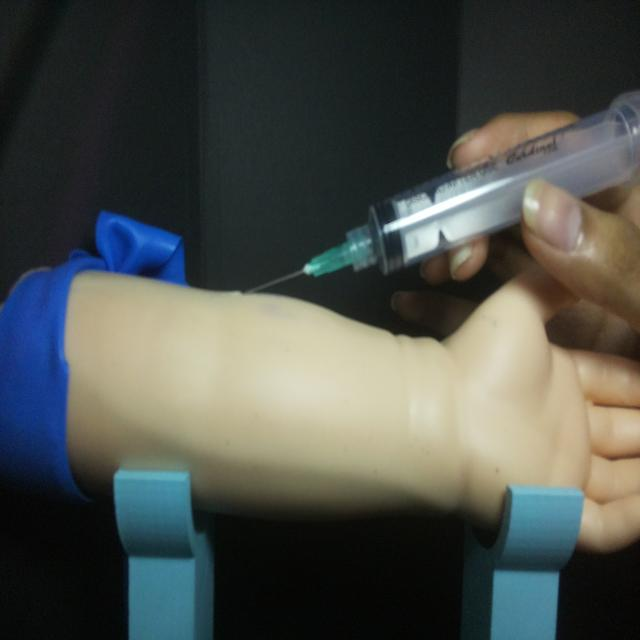18deg: (239, 86, 638, 298)
